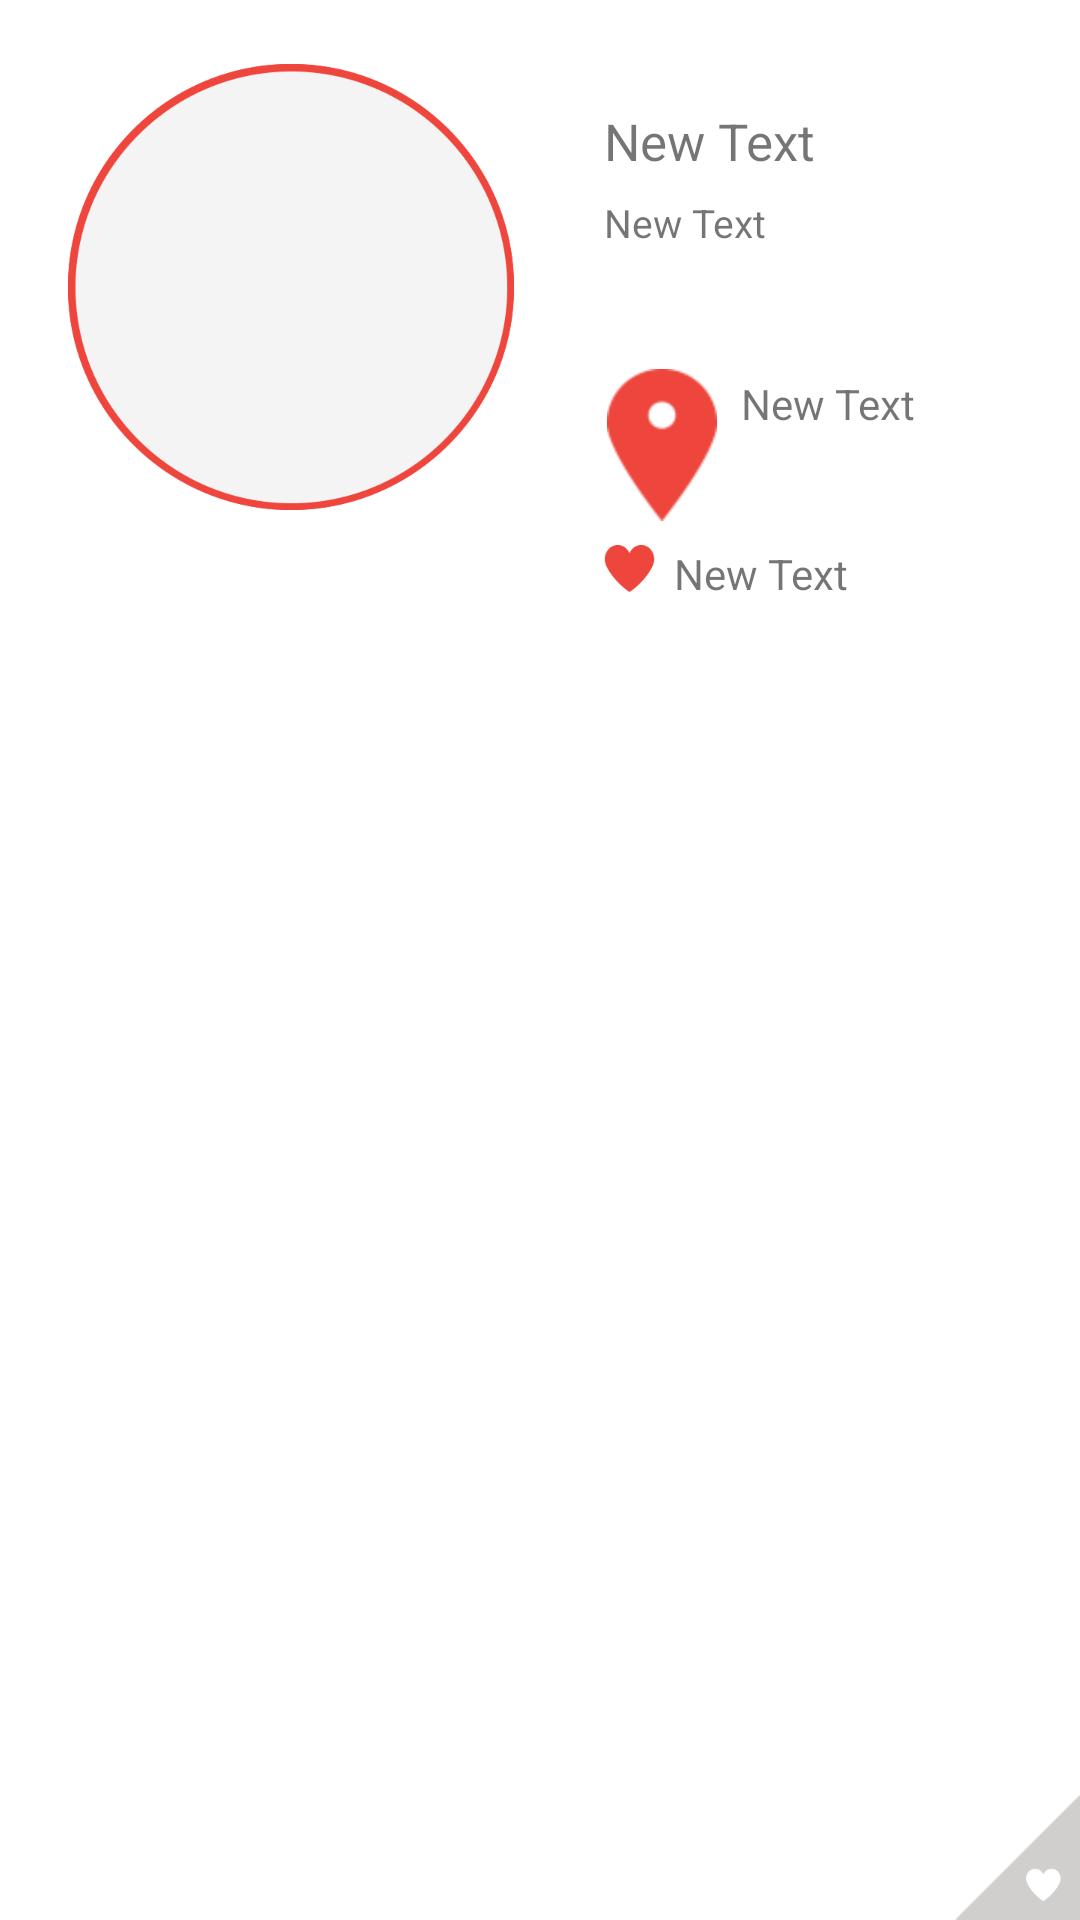

Named icons in this screenshot (1080×1920) and their centers, point (x, y):
heart: point (629, 568)
